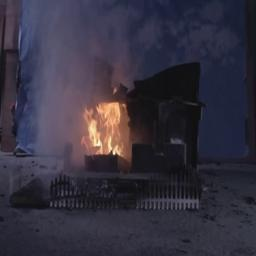fire: (77, 88, 140, 167)
